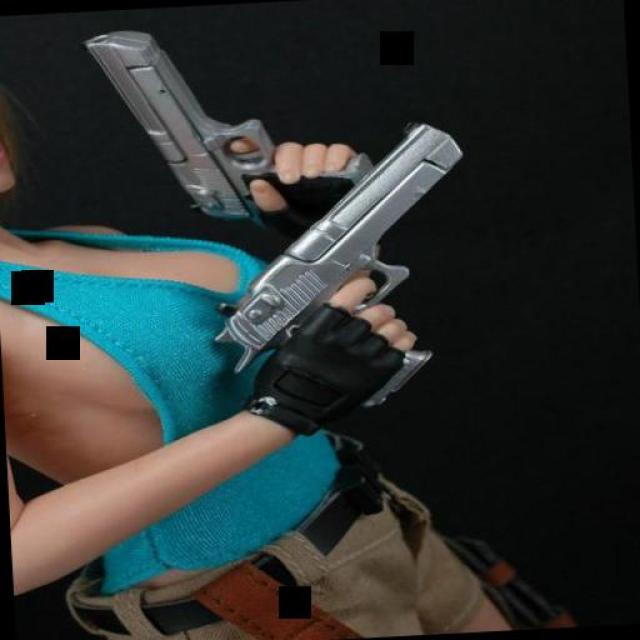gun: (200, 108, 492, 430), (68, 12, 318, 228)
